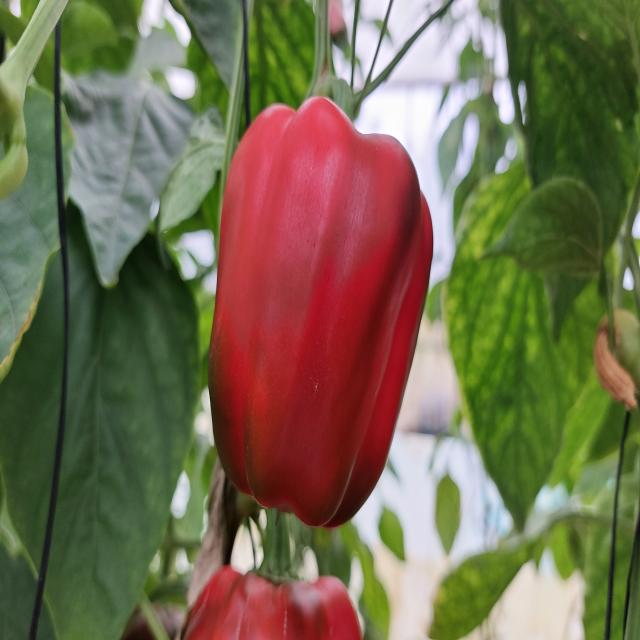Red-Ready-to-Harvest: (216, 113, 430, 524), (174, 568, 363, 639)
